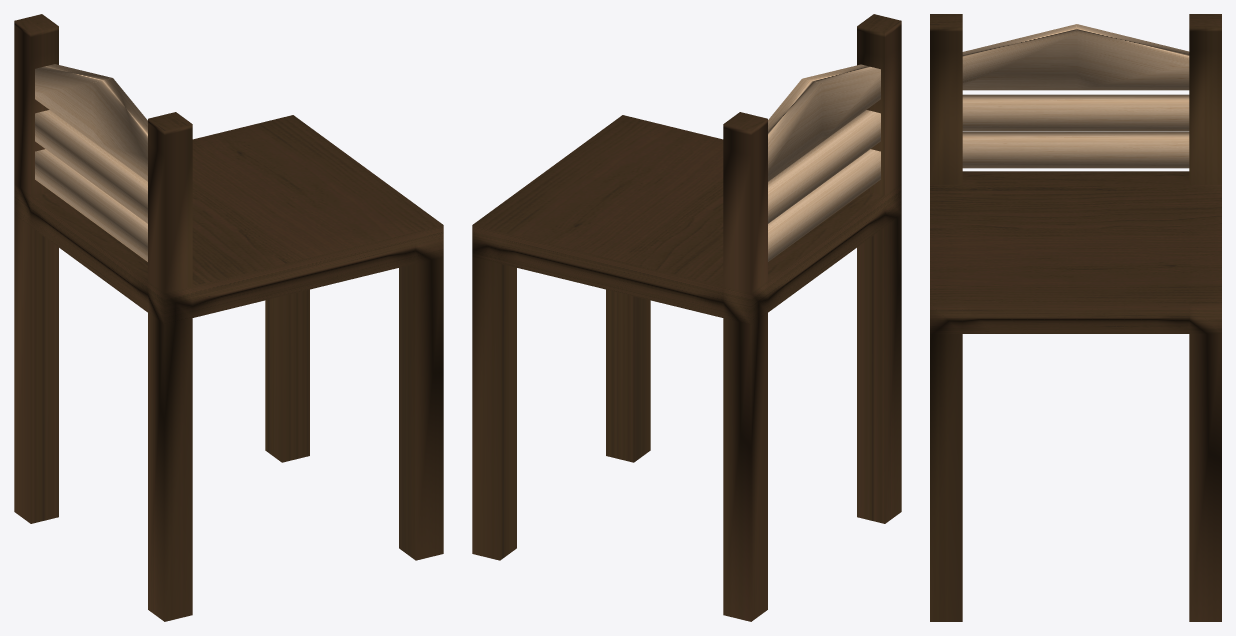
Rendered from SOVS.glb.
3 renders of one model, left to right at view 1: azimuth 30°, elevation 25°; view 2: azimuth 150°, elevation 25°; view 3: azimuth 270°, elevation 25°, orthographic. The views are drawn at different scales.
Visible parts, largest first — view 1: Cube.001, Cube.004, Cube.003, Cube.002; view 2: Cube.001, Cube.004, Cube.003, Cube.002; view 3: Cube.001, Cube.004, Cube.002, Cube.003.
Boxes of the visible parts, box(x1,y1,x2,y2) form: Cube.001: box(14, 14, 443, 621); Cube.004: box(35, 64, 147, 181); Cube.003: box(35, 110, 147, 223); Cube.002: box(35, 149, 147, 261); Cube.001: box(472, 14, 901, 621); Cube.004: box(768, 64, 880, 181); Cube.003: box(768, 110, 880, 223); Cube.002: box(768, 149, 880, 261); Cube.001: box(930, 14, 1221, 621); Cube.004: box(962, 24, 1189, 90); Cube.002: box(962, 131, 1189, 168); Cube.003: box(962, 94, 1189, 131).
Bounding box in the file's own units: 0.8228 × 1.38 × 0.7686.
4 materials, 4 textured.
